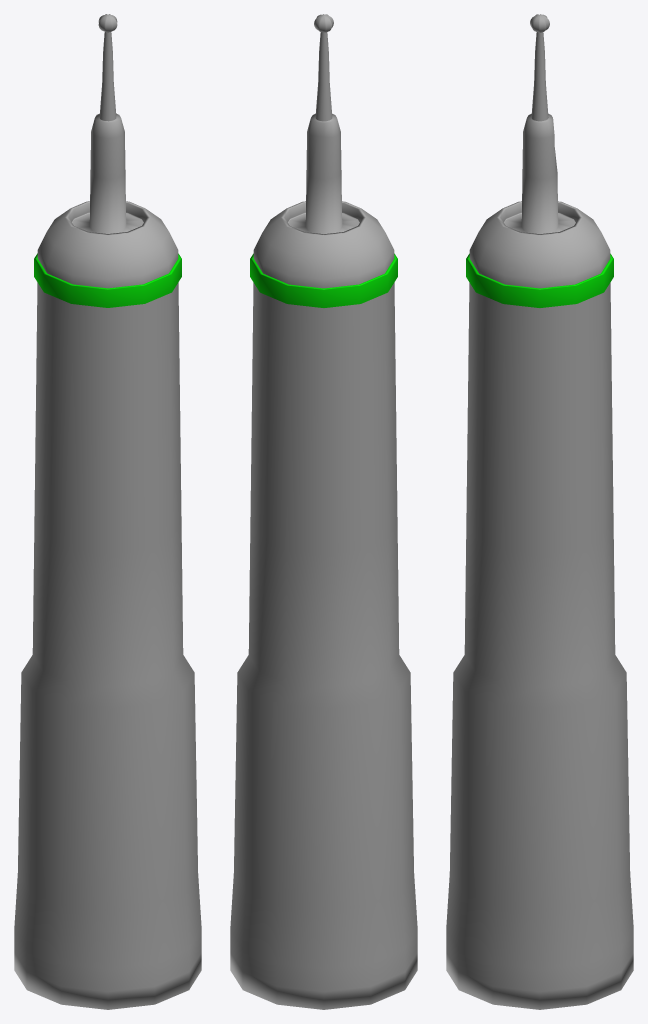
Rendered from Round_Bar_Steel_Model.fbx.
3 views of the same model, side by side, from view 1: azimuth 30°, elevation 25°; view 2: azimuth 150°, elevation 25°; view 3: azimuth 270°, elevation 25° (orthographic).
Visible parts, largest first — view 1: Steel_round_bar, Steel_Light, Steel_round_bar_Head; view 2: Steel_round_bar, Steel_Light, Steel_round_bar_Head; view 3: Steel_round_bar, Steel_Light, Steel_round_bar_Head.
Boxes of the visible parts, left/top/right/bottom form: Steel_round_bar: left=14, top=113, right=201, bottom=1009; Steel_Light: left=34, top=253, right=181, bottom=307; Steel_round_bar_Head: left=98, top=14, right=117, bottom=121; Steel_round_bar: left=230, top=113, right=417, bottom=1009; Steel_Light: left=250, top=253, right=397, bottom=307; Steel_round_bar_Head: left=314, top=14, right=333, bottom=121; Steel_round_bar: left=446, top=114, right=633, bottom=1009; Steel_Light: left=466, top=253, right=613, bottom=307; Steel_round_bar_Head: left=530, top=14, right=549, bottom=121.
Bounding box in the file's own units: 1.63 × 9.19 × 1.63.
